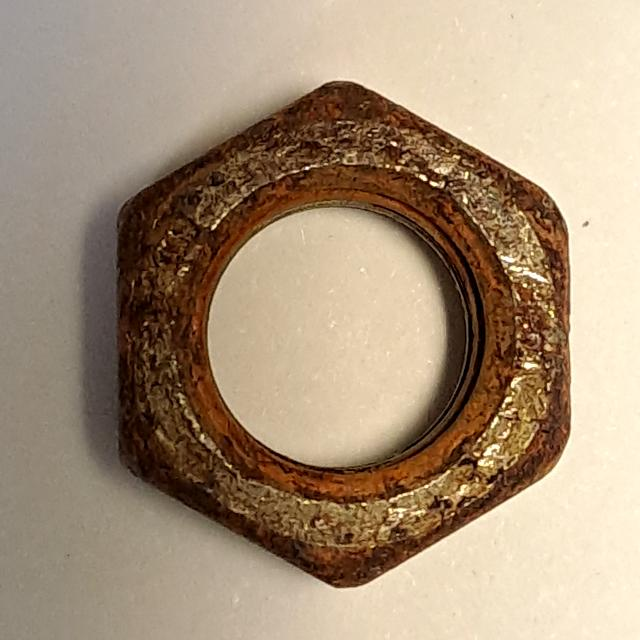Rust: (92, 55, 595, 604)
